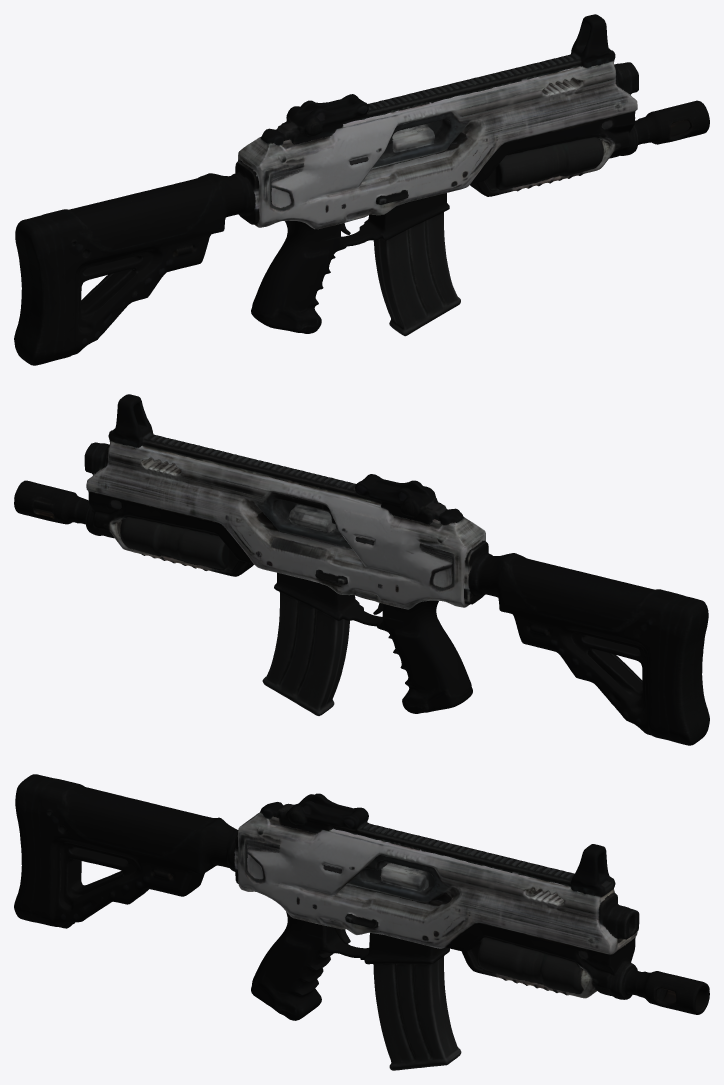
The model's file is cqb_carbine.glb.
The picture shows the model from 3 angles, top to bottom: view 1: azimuth 30°, elevation 25°; view 2: azimuth 150°, elevation 25°; view 3: azimuth 330°, elevation 25°; orthographic projection.
Parts seen in each view (by area): view 1: Mesh_0; view 2: Mesh_0; view 3: Mesh_0.
Boxes of the visible parts, x1,y1,x2,y2 form: Mesh_0: (14,14,709,365); Mesh_0: (14,394,709,745); Mesh_0: (14,774,709,1070).
Size of the model in its own units: 0.9981 by 0.3744 by 0.0898.
Materials: 1 (1 with a texture image).
